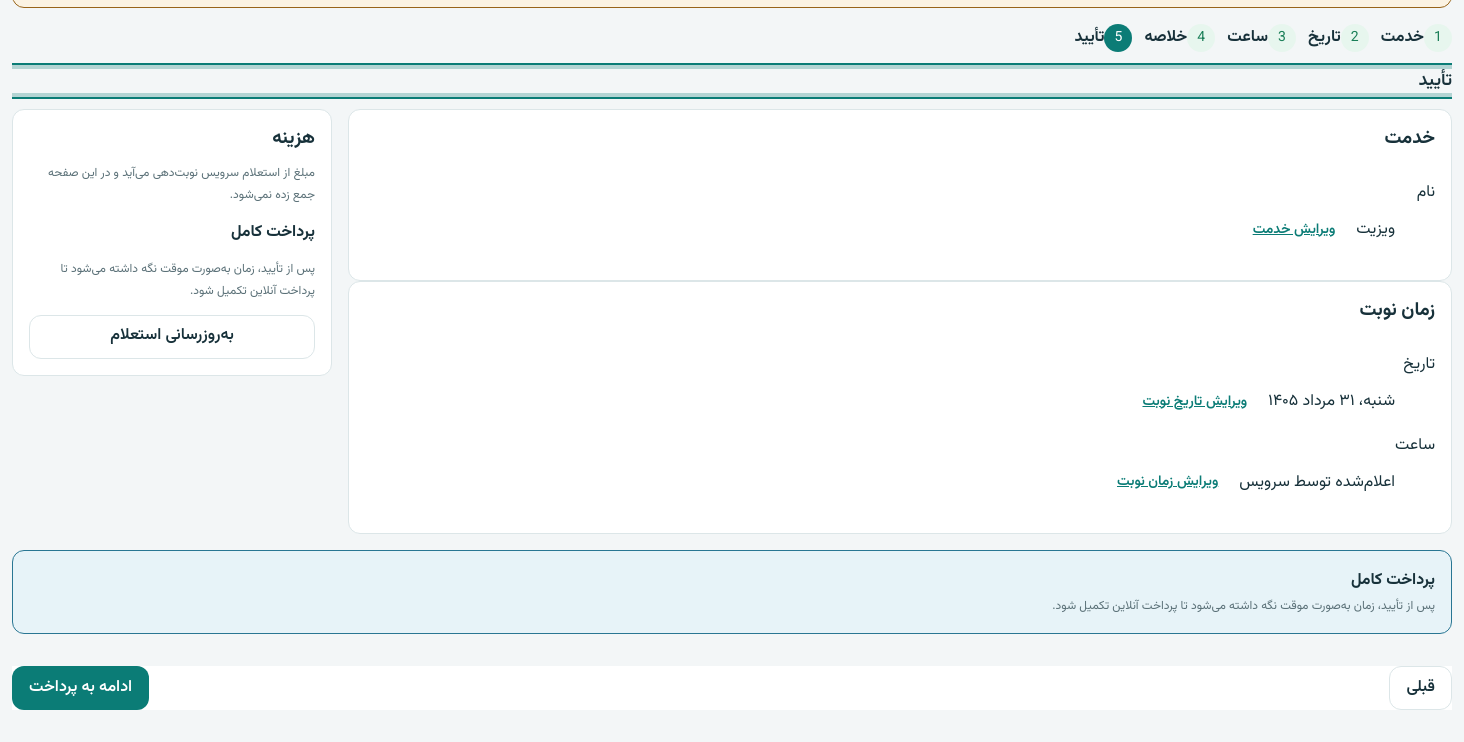
Test: BookingWizard hold creation › returns to time when hold creation reports slot taken
(page scrolled)
Expected: the heading "تأیید" is shown, top-left (12, 69), bottom-right (1452, 93)
Click the button "ادامه به پرداخت" at x=81, y=688, box top-left (12, 666), bottom-right (149, 710)
(page scrolled)
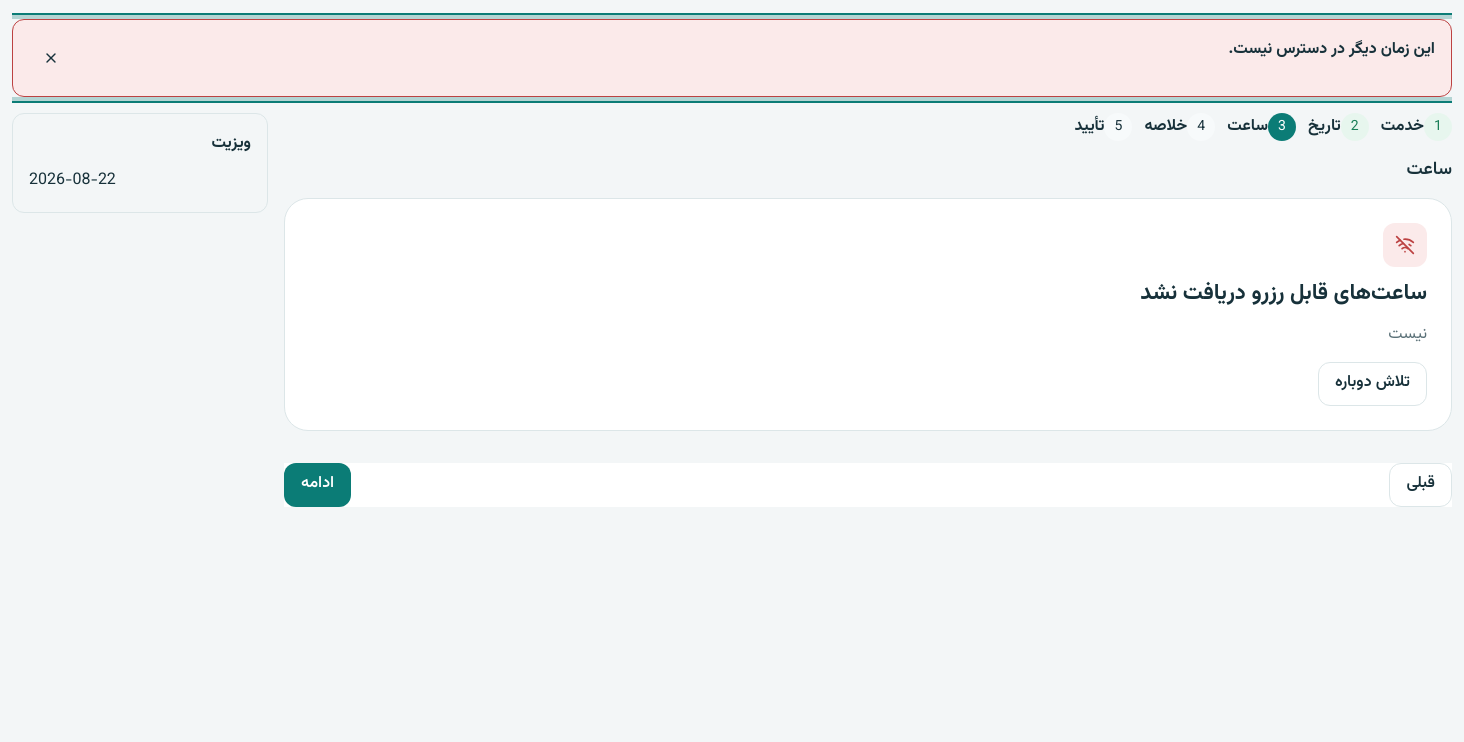
Now the text "این زمان دیگر در دسترس نیست." is shown, box top-left (1228, 37), bottom-right (1435, 62)
